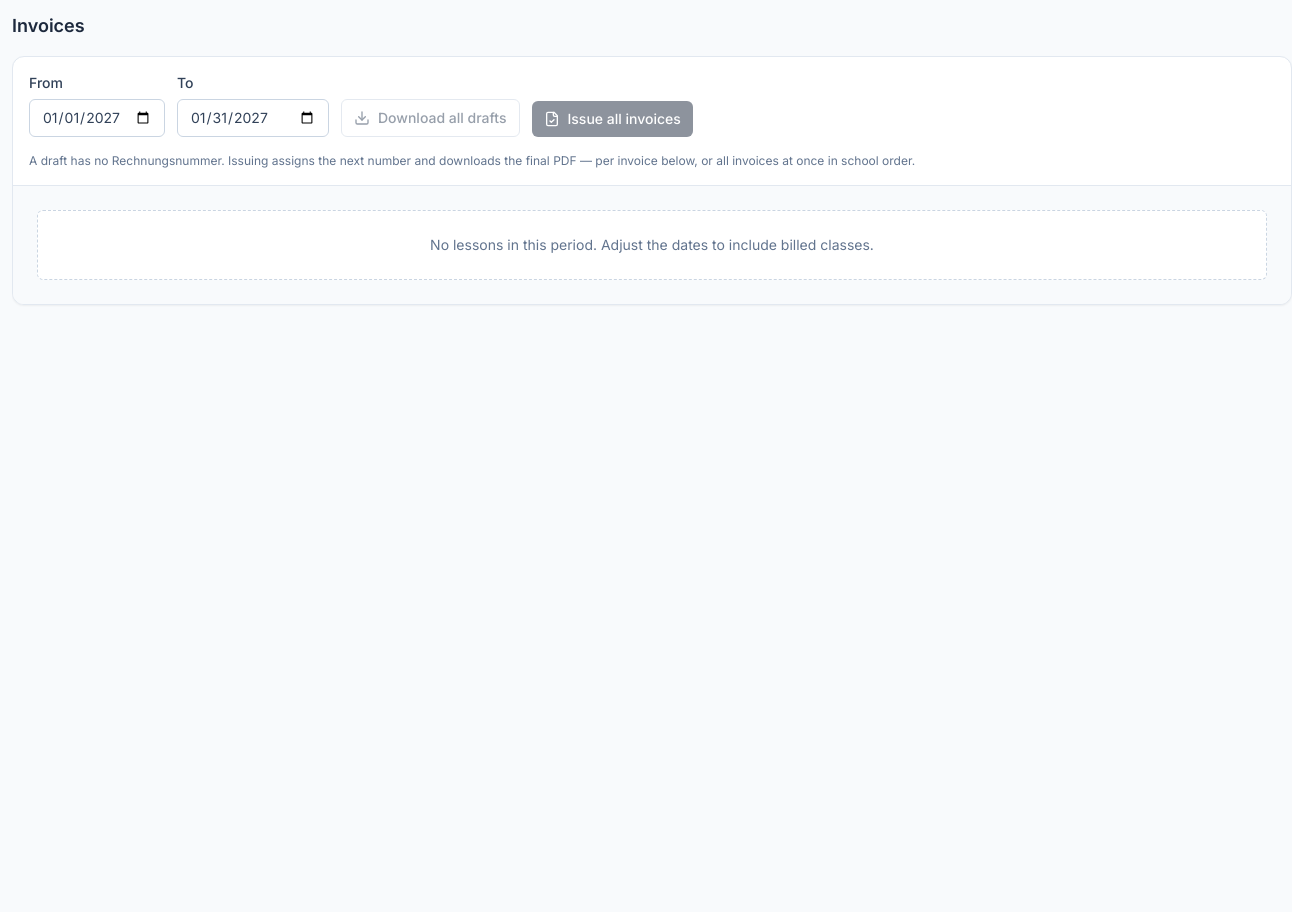
it: InvoicesPage › issuing Rechnungsnummern › numbers the first invoice of a new year 01/yy
Type "2026-12-01" into the date field named "invoice period start date" at (97, 118), box [29, 99, 165, 137]
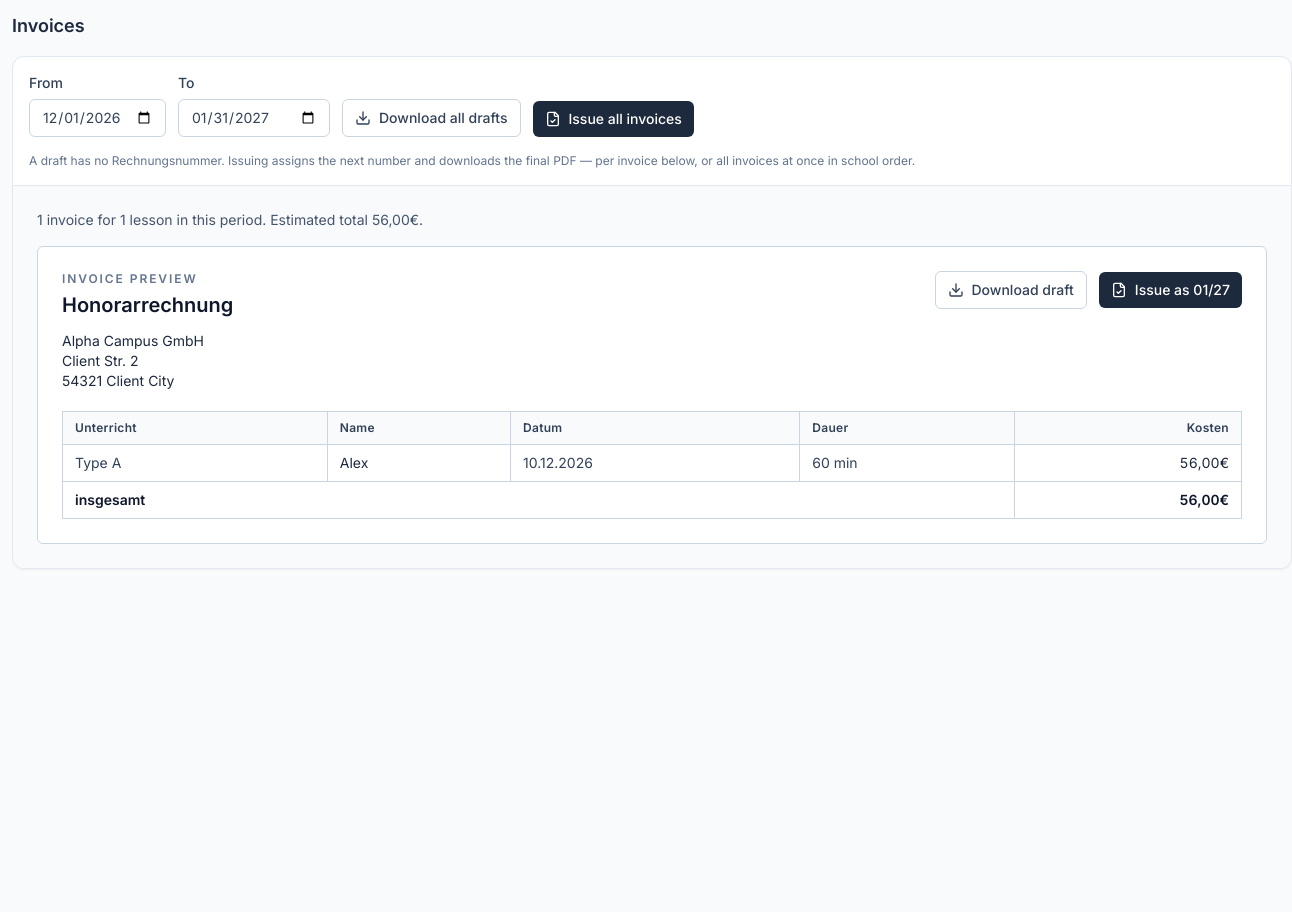
Type "2026-12-31" into the date field named "invoice period end date" at (254, 118), box [178, 99, 330, 137]
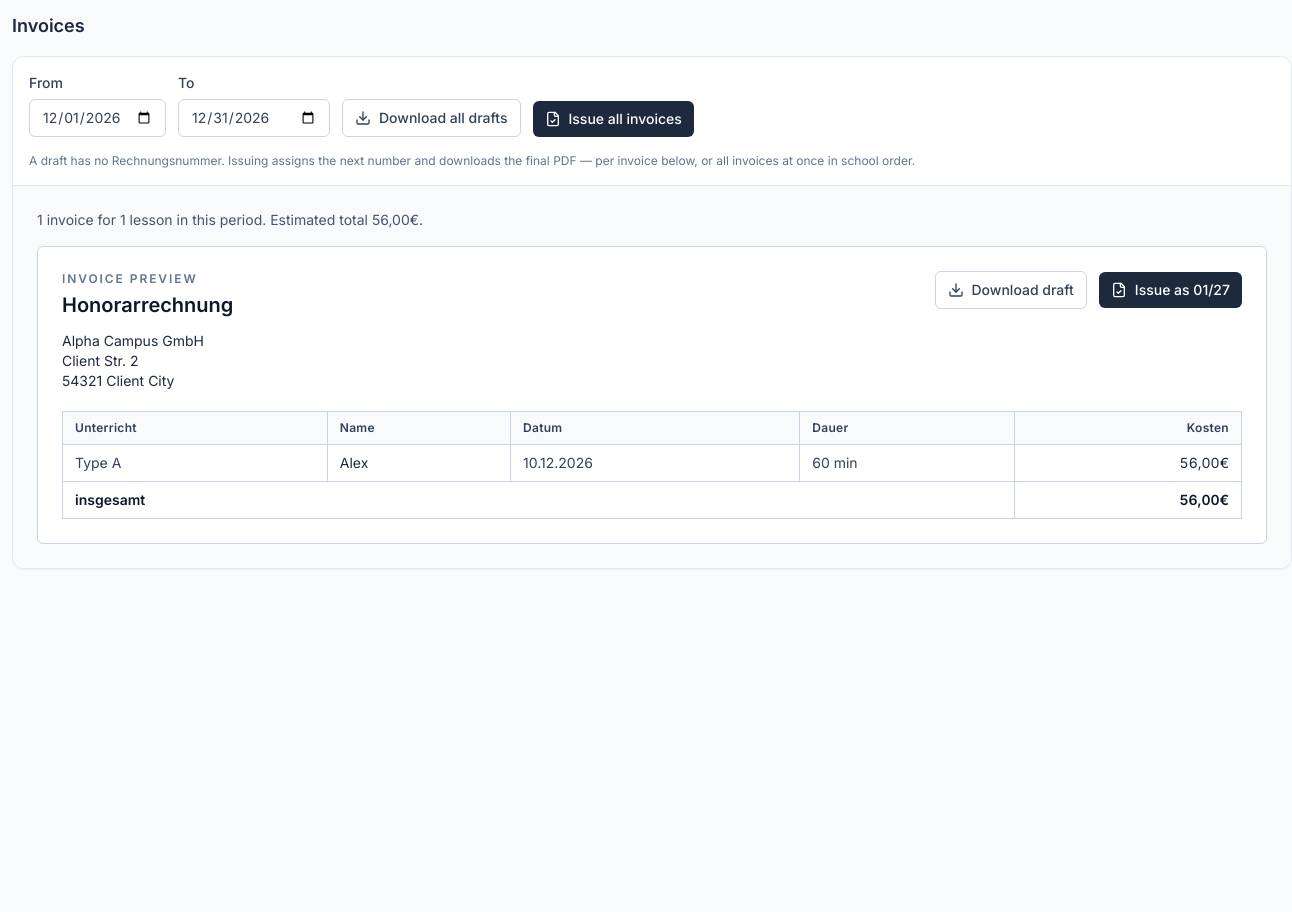
Check: the button with aria-label "issue invoice for alpha campus as 01/27" is shown, box [1099, 272, 1242, 308]
Click the button "Issue all invoices" at (613, 119), box [532, 101, 694, 137]
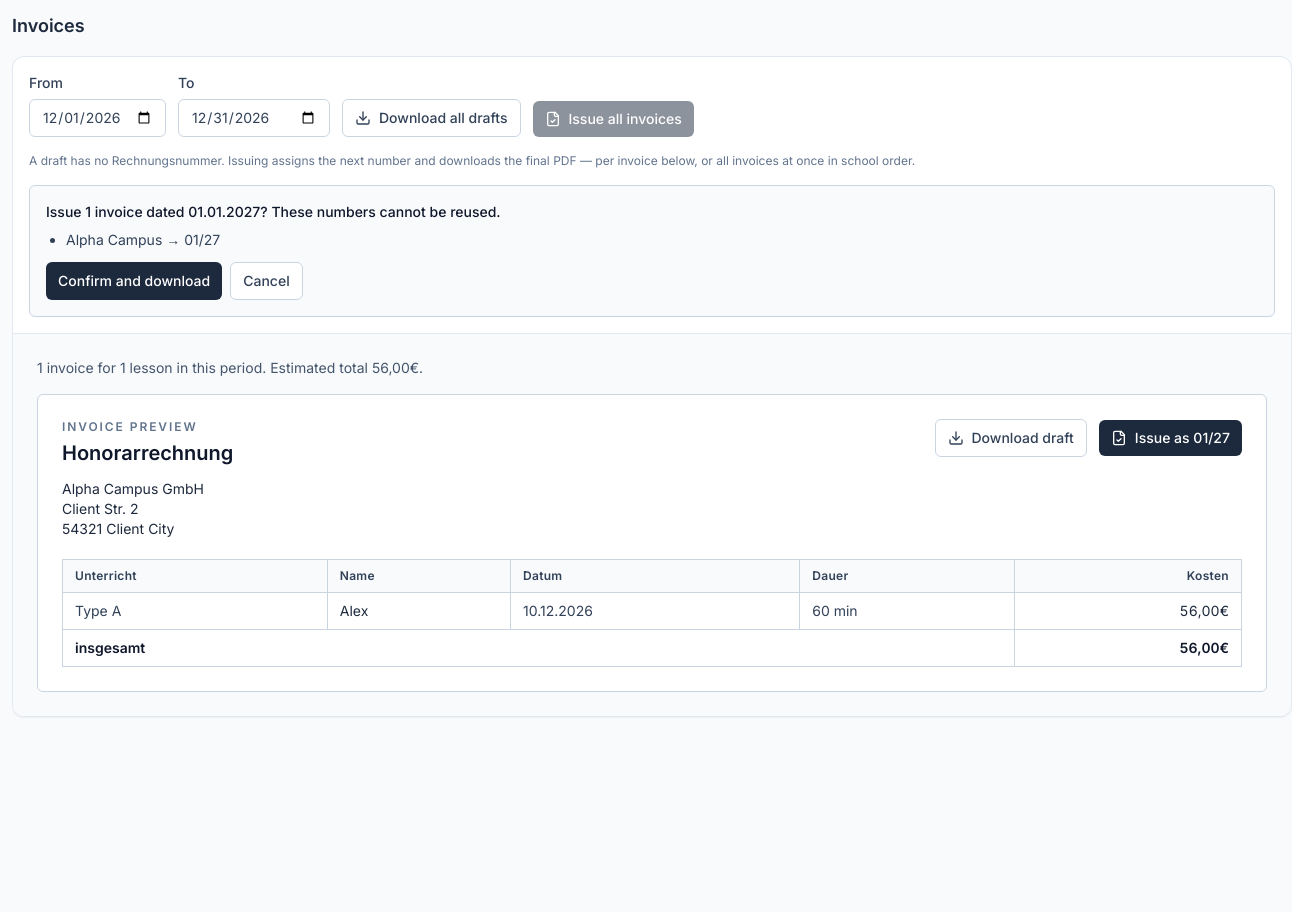
Check: the element named "confirm issuing invoices" shows "Alpha Campus → 01/27", box [29, 185, 1275, 317]
